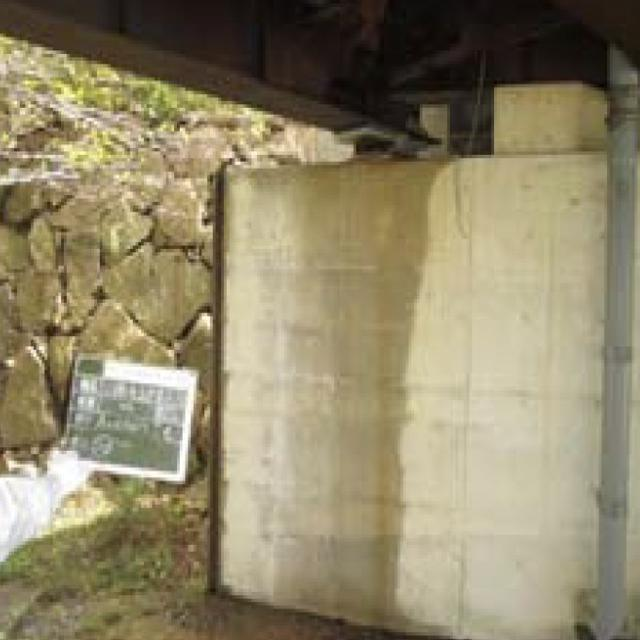leakage: (224, 150, 432, 640)
